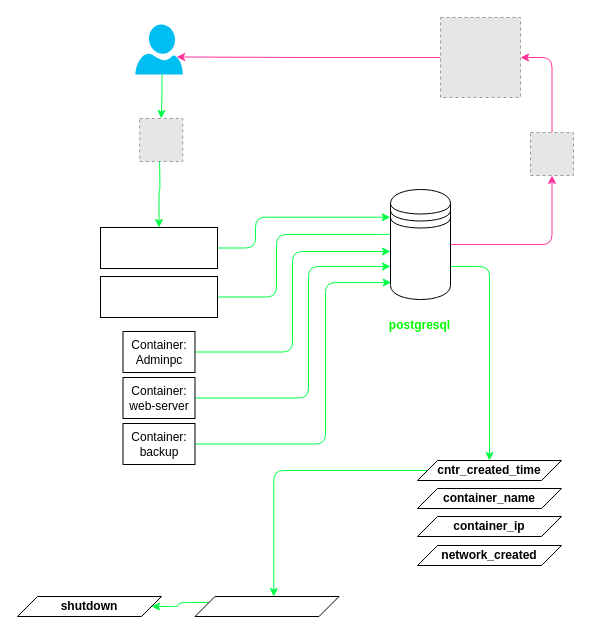
The diagram is 591 pixels wide and 634 high, and some of its shapes have lost their labels. Grey dashed boxes stand in for pictures. Each missing label, with the centre of its shape:
"1H" belongs at (x=266, y=606).
"Network Name filetrasnfer_xxxxx" belongs at (x=159, y=247).
"Subnet 10.0.100.0/29" belongs at (x=159, y=297).
